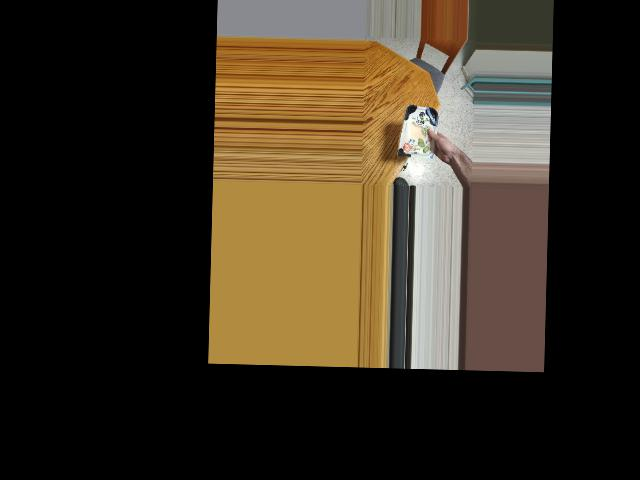cheese: (396, 106, 445, 159)
